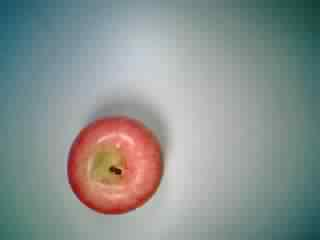apple: (61, 114, 166, 216)
